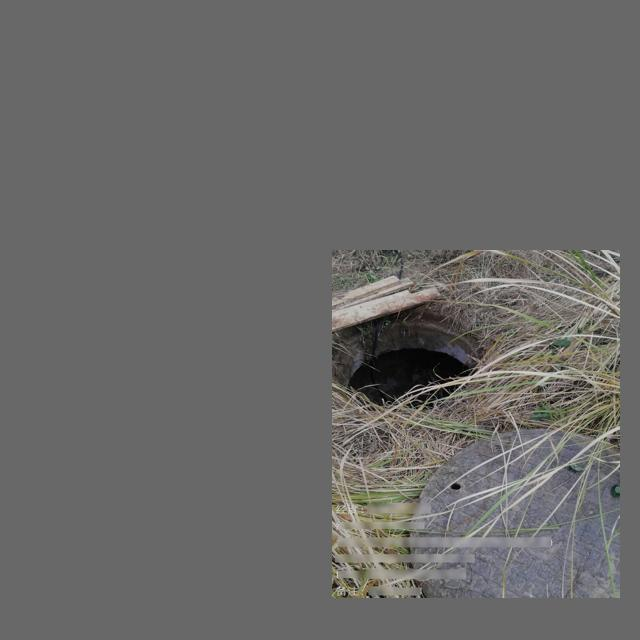uncovered: (333, 266, 502, 430)
